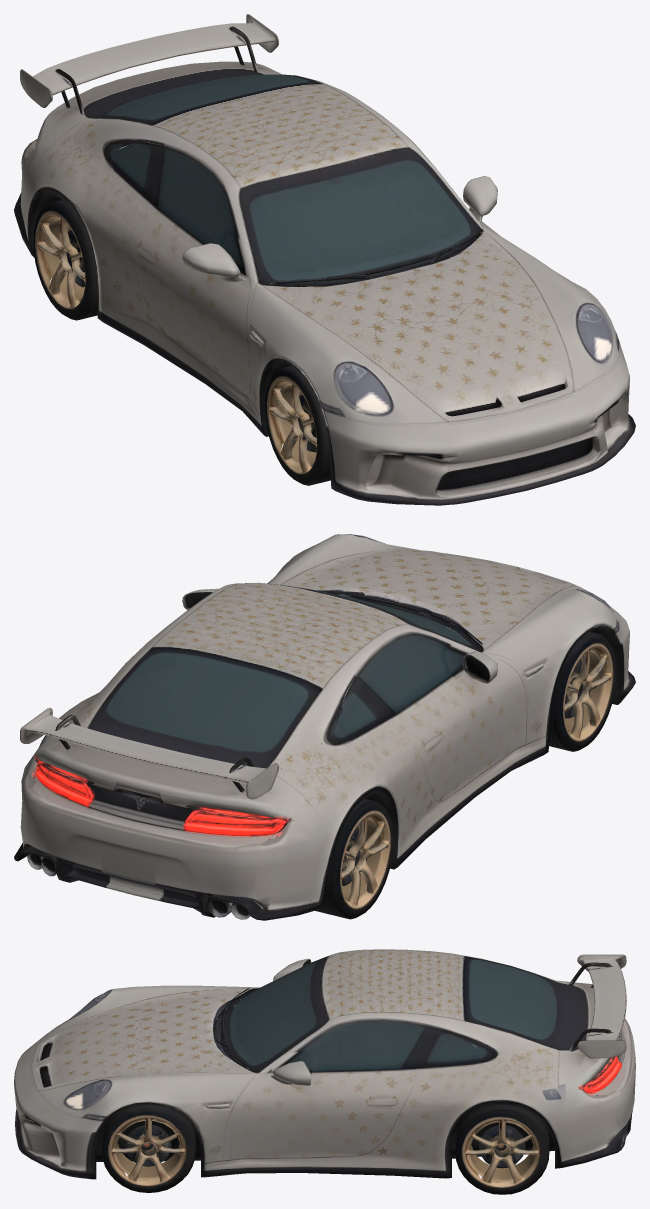
File: porsche.glb
The picture shows the model from 3 angles, top to bottom: view 1: azimuth 30°, elevation 25°; view 2: azimuth 150°, elevation 25°; view 3: azimuth 270°, elevation 25°; orthographic projection. The views are drawn at different scales.
Visible parts, largest first — view 1: tripo_3e0531ab_0140_4553_89f6_1a67891c3229; view 2: tripo_3e0531ab_0140_4553_89f6_1a67891c3229; view 3: tripo_3e0531ab_0140_4553_89f6_1a67891c3229.
Part boxes in pixels (left/top/right/bottom): tripo_3e0531ab_0140_4553_89f6_1a67891c3229: left=14, top=14, right=635, bottom=505; tripo_3e0531ab_0140_4553_89f6_1a67891c3229: left=14, top=534, right=635, bottom=920; tripo_3e0531ab_0140_4553_89f6_1a67891c3229: left=14, top=949, right=635, bottom=1194.
Size of the model in its own units: 0.4467 by 0.2857 by 0.9995.
Materials: 5 (5 with a texture image).
